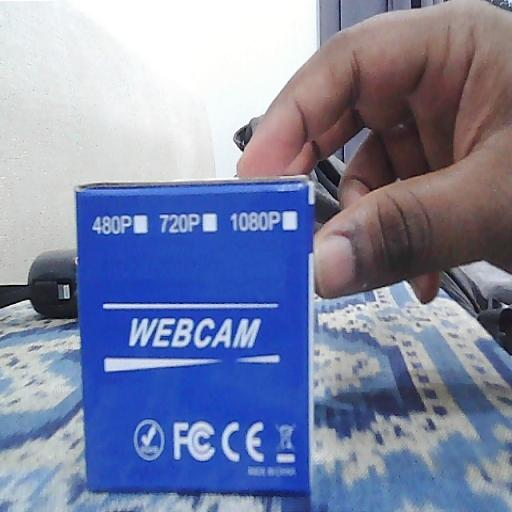webcam_box: (78, 173, 316, 497)
